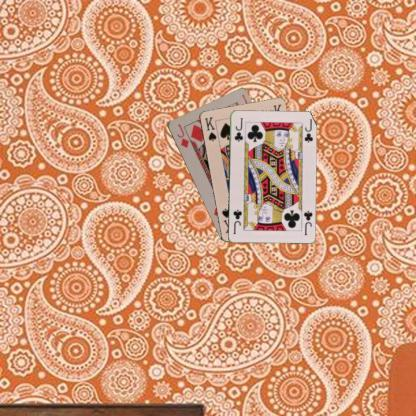Jc: (232, 115, 244, 143), (301, 208, 313, 236)
Jd: (174, 121, 190, 149)
Ks: (202, 114, 217, 142)
